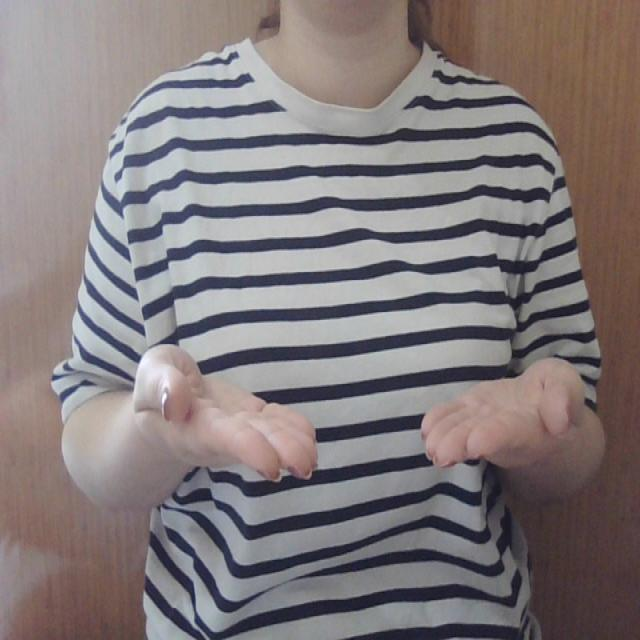Evet: (113, 340, 608, 494)
